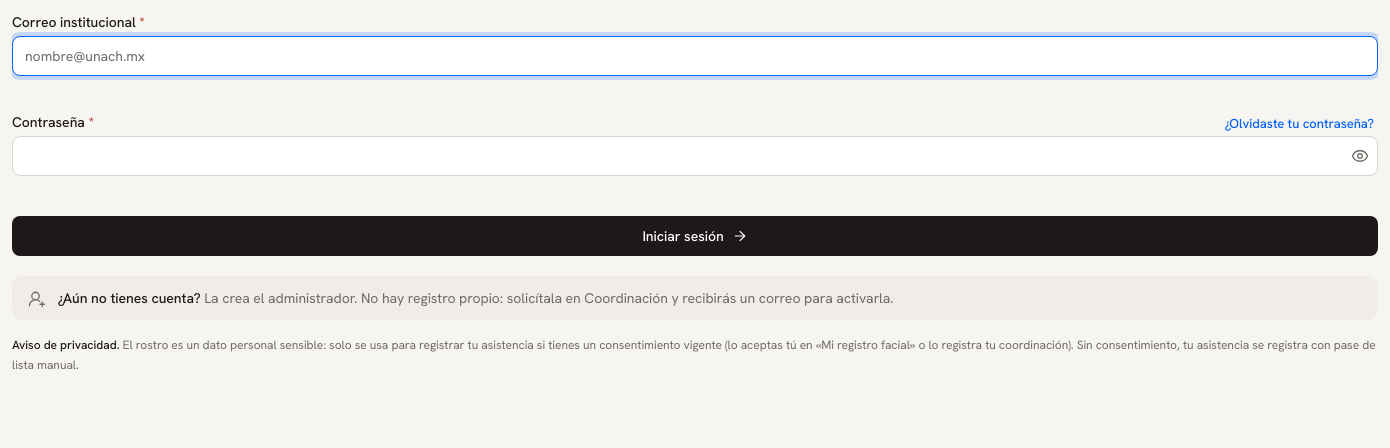
Test case: LoginForm › muestra el error de credenciales
The image size is (1390, 448).
Step 1. Type "a@susan.local" into the field labelled "Correo institucional *" → (695, 56), box [12, 36, 1378, 76]
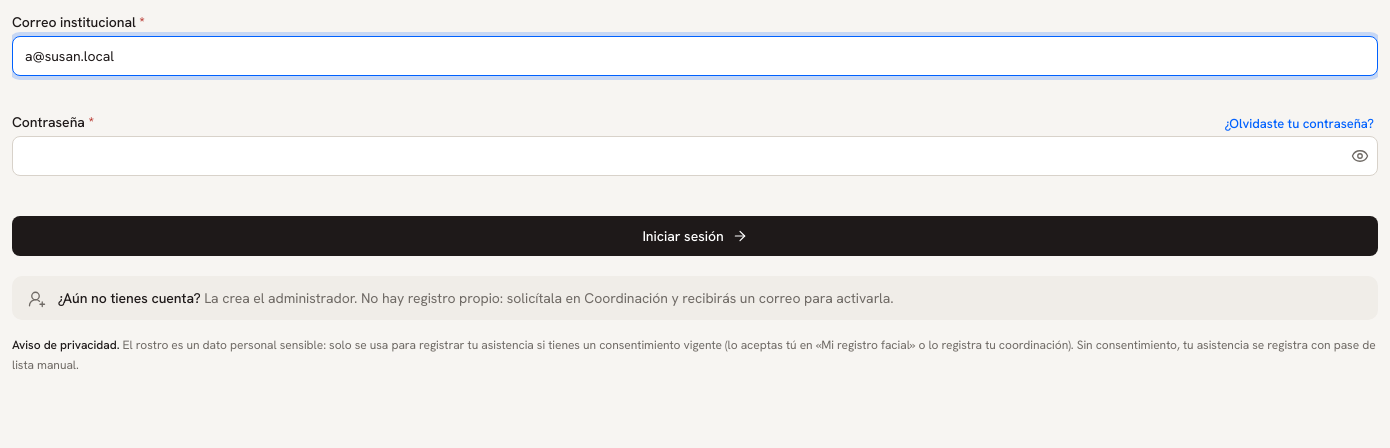
Step 2. Type "demo1234" into the password field labelled "Contraseña *" → (695, 156), box [12, 136, 1378, 176]
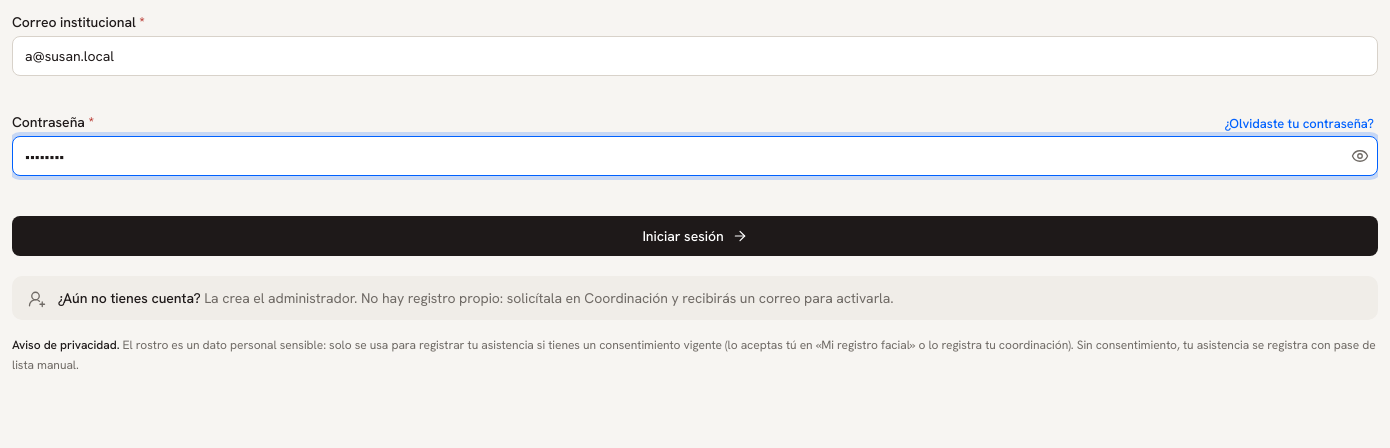
Step 3. Click the button "Iniciar sesión" → (695, 236), box [12, 216, 1378, 256]
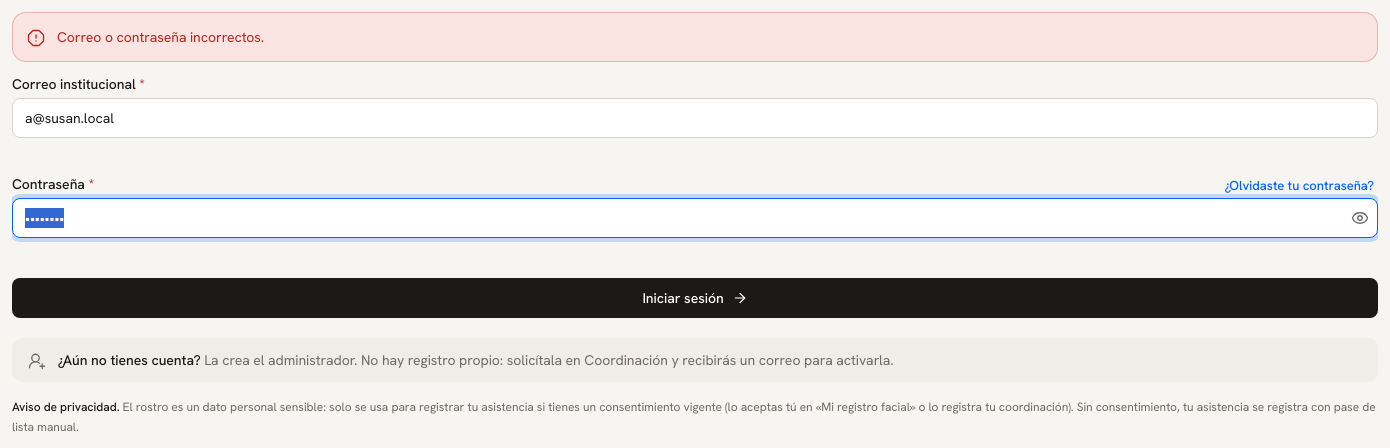
Result: the text "Correo o contraseña incorrectos." is shown at [57, 28, 264, 46]
